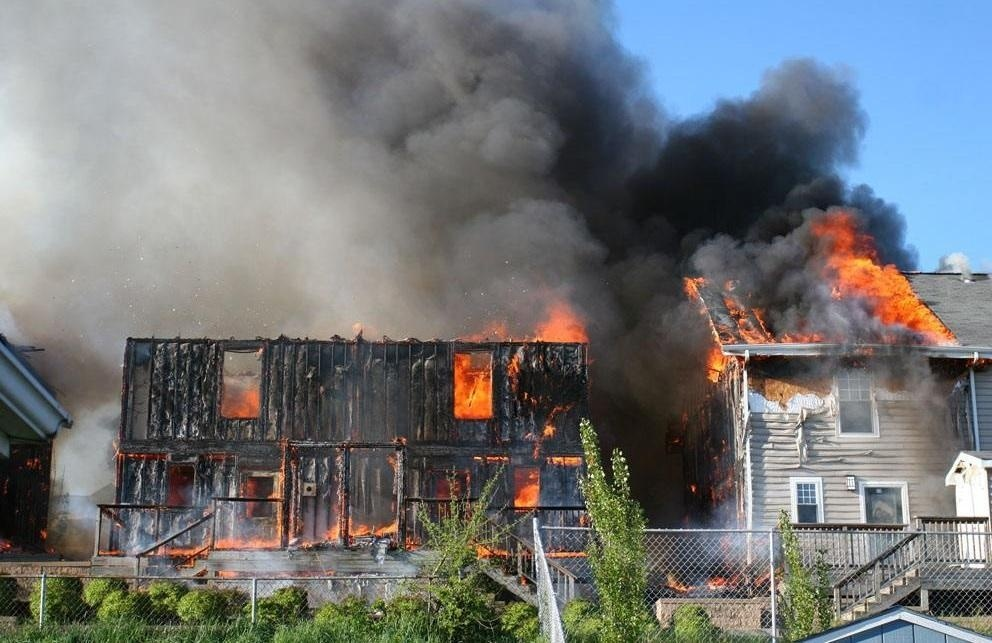fire: (107, 341, 577, 565), (697, 215, 951, 353), (451, 334, 497, 419), (512, 466, 541, 508)
